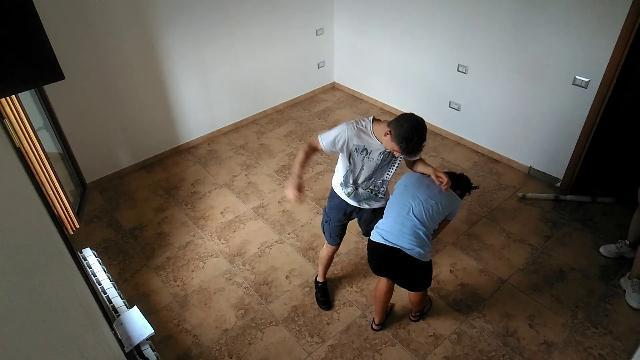non-violence: (597, 208, 640, 307)
violence: (282, 110, 476, 332)
